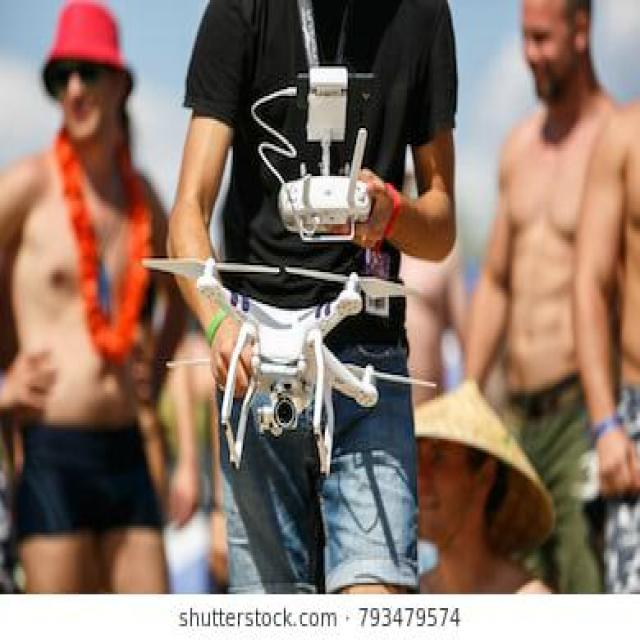drone: (133, 239, 442, 479)
